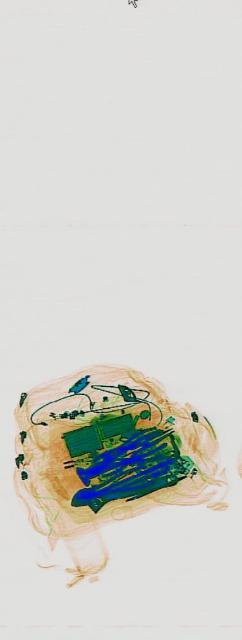Pliers: (98, 418, 166, 474)
Wrench: (69, 464, 175, 518)
